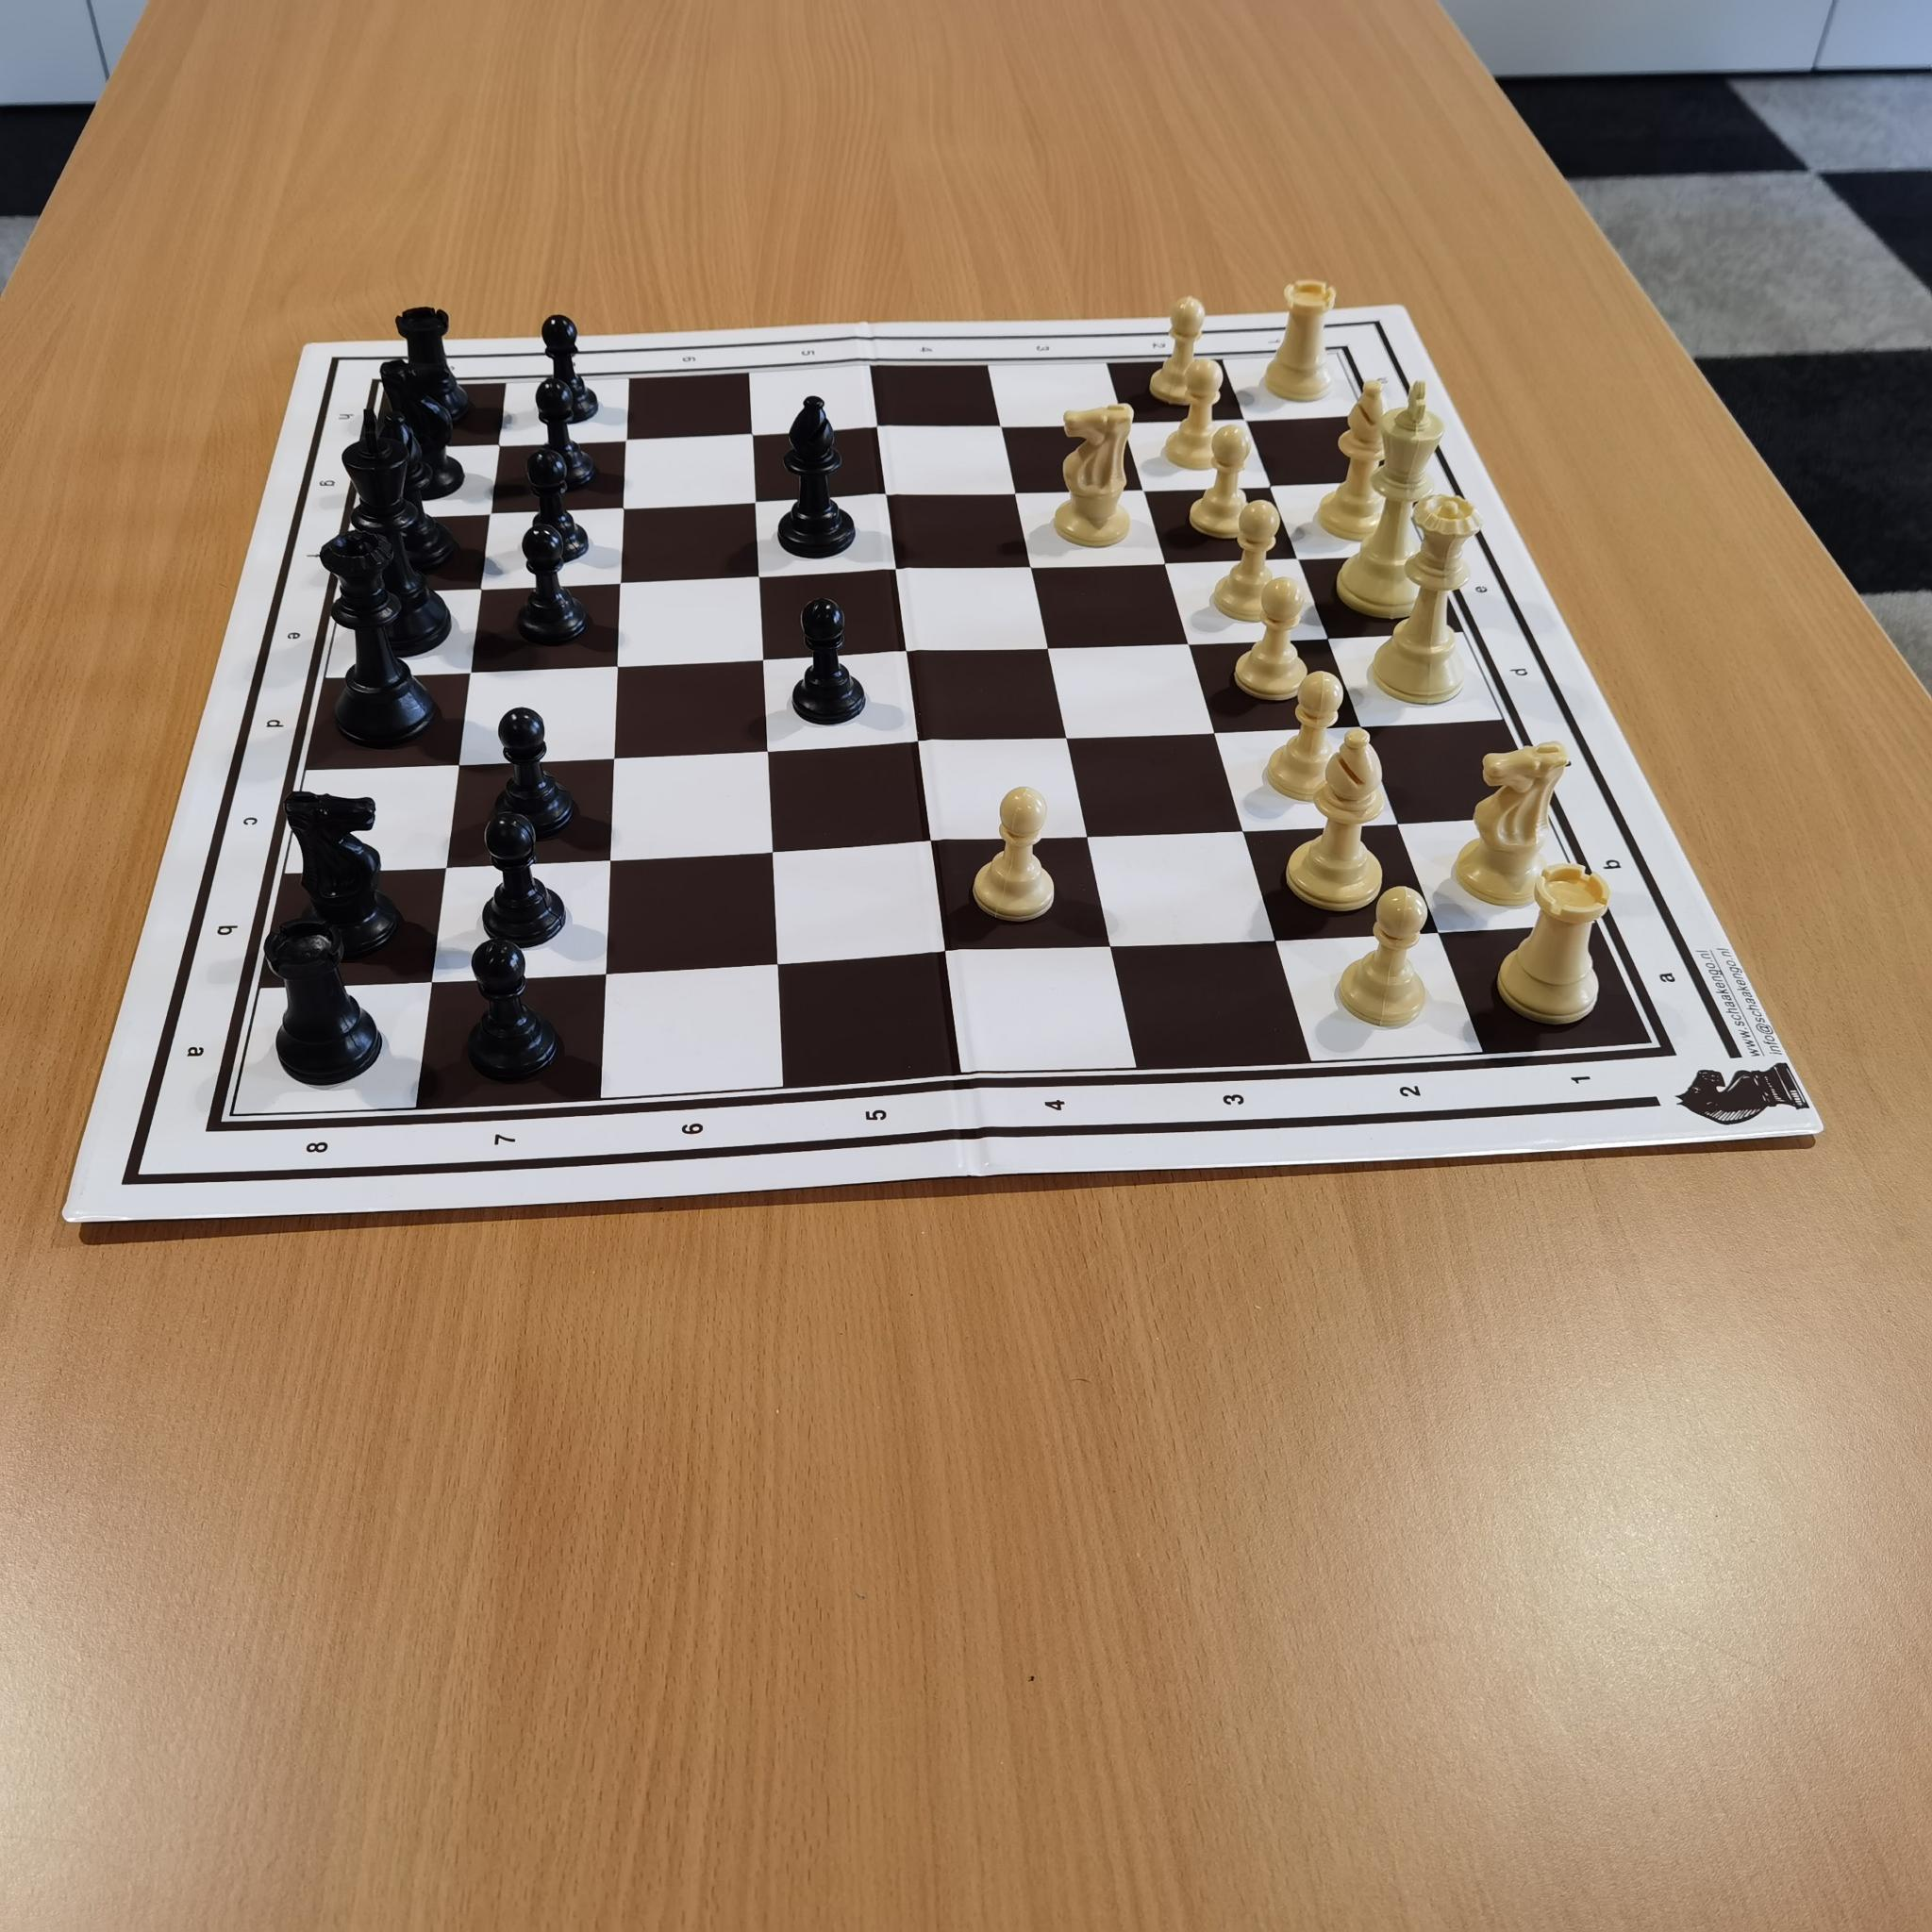corners: (207, 1085, 265, 1146), (1622, 1010, 1674, 1074), (357, 366, 409, 403), (1313, 334, 1357, 375)
eight: (292, 1120, 343, 1178), (416, 336, 446, 366)
one: (1562, 1053, 1608, 1100), (1260, 320, 1293, 356)
